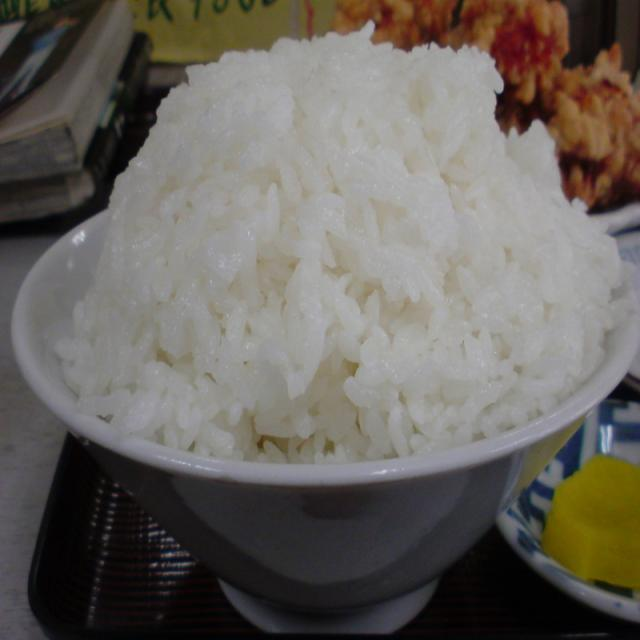rice: (156, 108, 514, 434)
